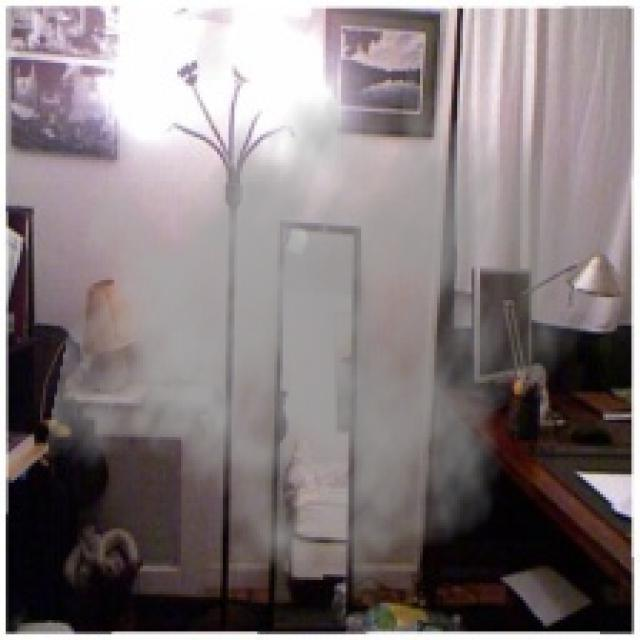smoke: (43, 40, 603, 603)
